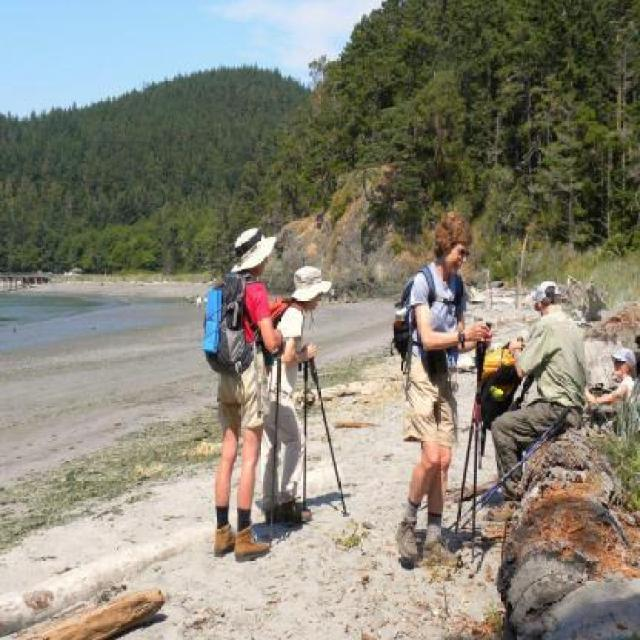backpack: (202, 271, 256, 380), (477, 344, 523, 424), (392, 268, 414, 369), (268, 294, 289, 328), (421, 265, 437, 309), (454, 274, 463, 314)
